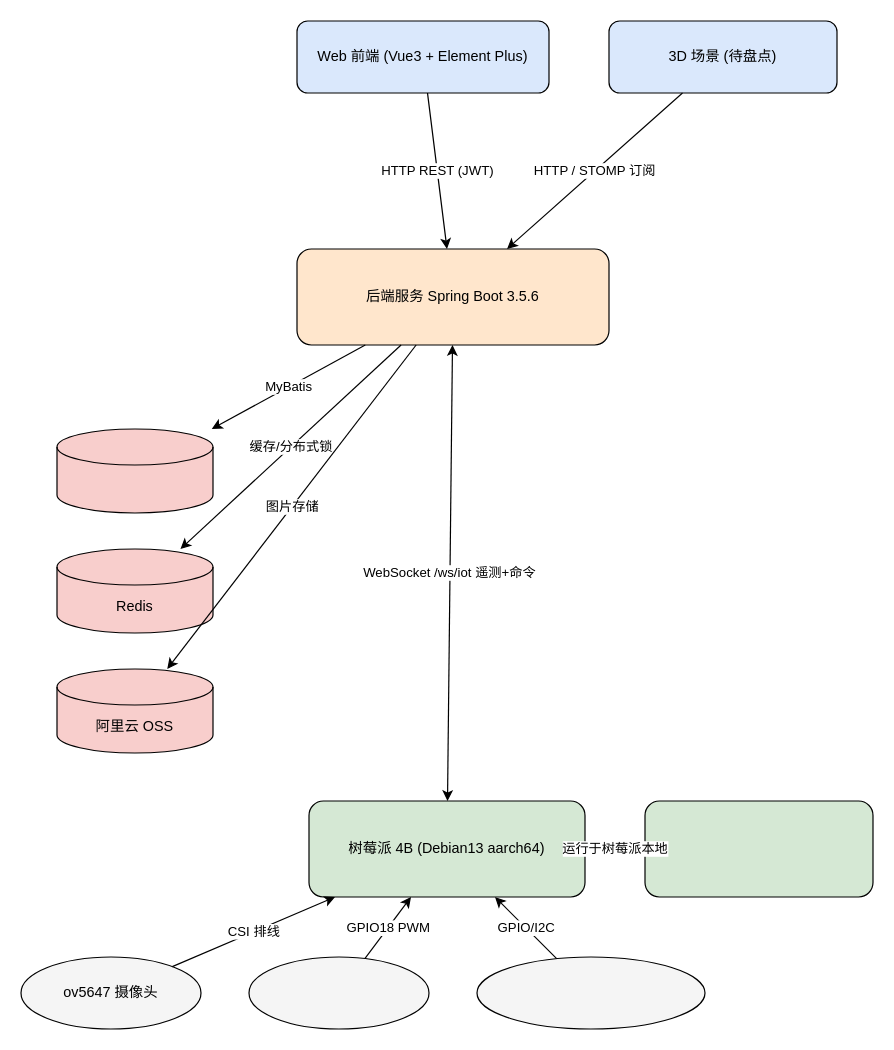
Image size: 894x1050. Some labels were removed from this diagram. Here are the shapes that lost their labels. From the top down, the centre of each, then its label:
At point 134,470: "MySQL".
At point 758,848: "人脸识别模块 (YuNet+MobileFaceNet)".
At point 338,992: "舵机门禁 SG90".
At point 590,992: "传感器组 (温湿度/CO2/光照/人体)".
